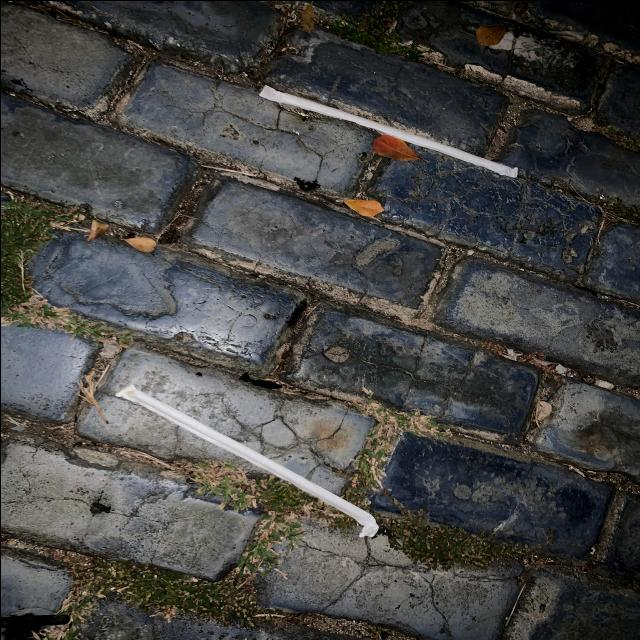Plastic straw: (132, 391, 371, 518)
Wrapping paper: (112, 385, 380, 537), (258, 85, 517, 176)
